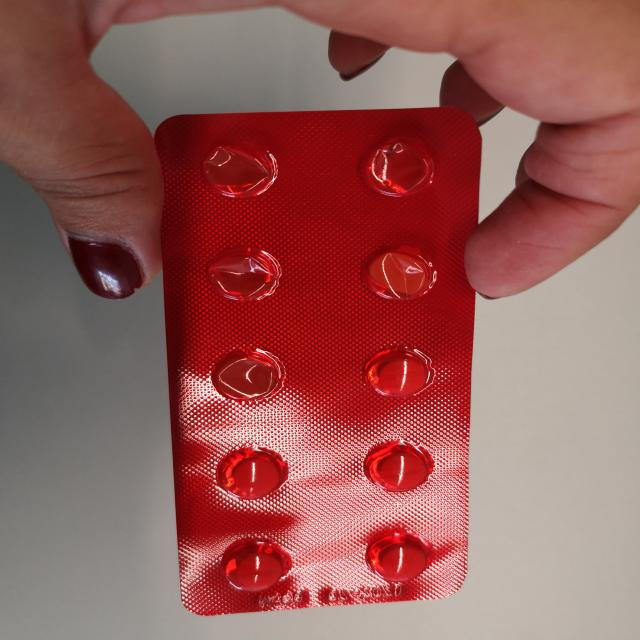Empty: (348, 132, 448, 206), (350, 240, 448, 308), (204, 338, 297, 409), (196, 240, 290, 308), (189, 134, 280, 203)
Pill: (206, 436, 304, 508), (350, 431, 450, 500), (209, 534, 301, 598), (355, 523, 445, 587), (353, 345, 443, 405)
